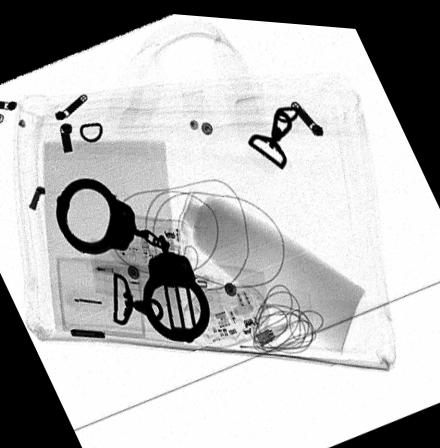HandCuffs: (54, 176, 208, 339)
